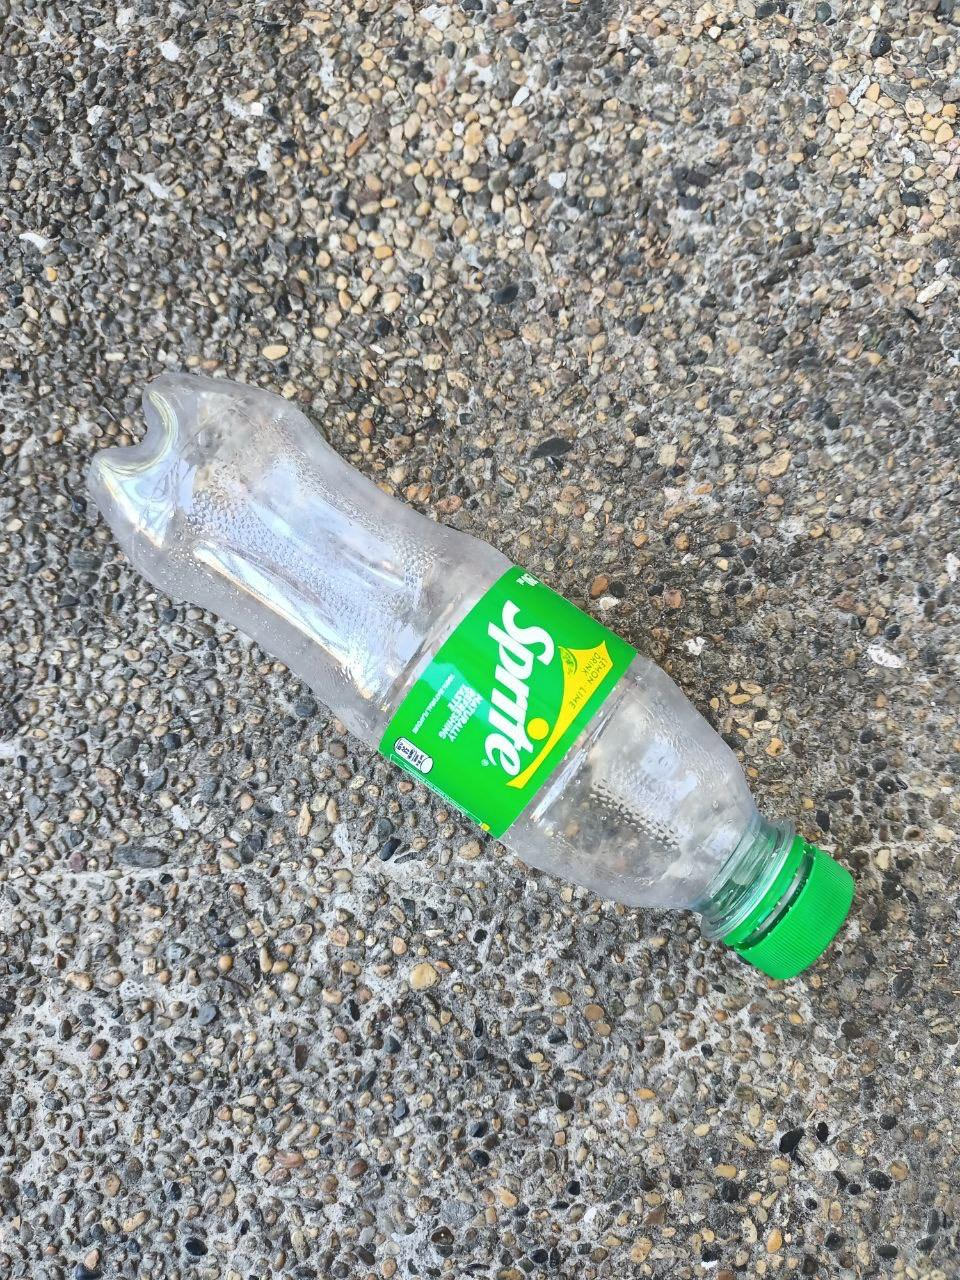plastic: (53, 330, 909, 1039)
